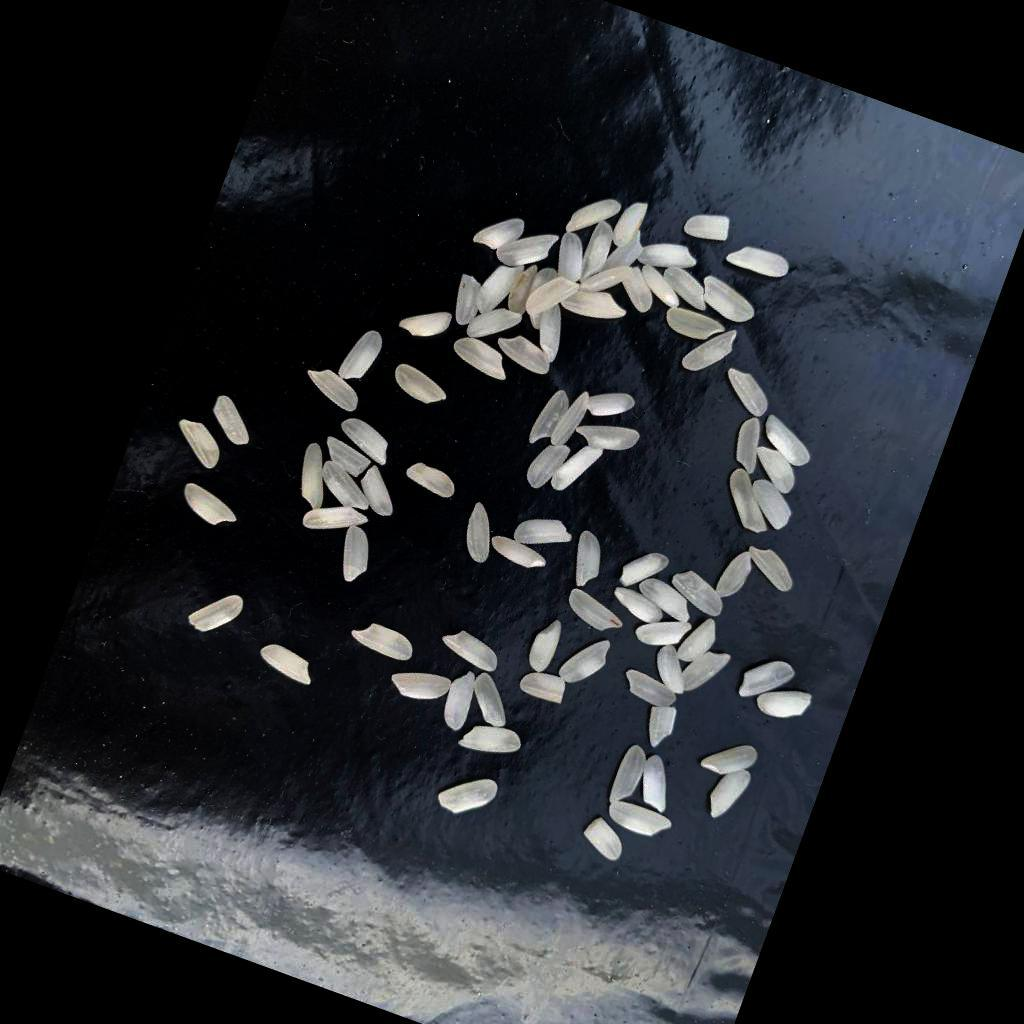rice: (715, 467, 784, 537), (434, 764, 500, 825), (494, 220, 561, 280), (548, 437, 607, 504), (681, 318, 739, 383), (288, 443, 341, 513), (332, 414, 399, 469), (313, 461, 380, 516), (558, 281, 630, 332), (185, 583, 246, 643), (176, 482, 245, 535), (166, 415, 230, 472), (557, 629, 614, 693), (473, 256, 526, 324), (694, 275, 762, 328), (737, 652, 797, 712), (302, 496, 371, 548), (756, 416, 820, 472), (299, 364, 367, 416), (572, 412, 641, 463), (562, 588, 630, 639), (666, 567, 732, 619), (457, 716, 524, 767), (348, 618, 419, 666), (448, 334, 516, 384), (438, 625, 506, 675), (463, 671, 520, 730), (512, 509, 576, 561), (389, 362, 454, 413), (523, 271, 580, 329), (565, 190, 622, 248), (330, 525, 381, 589), (336, 325, 387, 389), (634, 576, 699, 626), (387, 662, 452, 712), (741, 478, 799, 534), (636, 233, 702, 282), (716, 367, 777, 420), (605, 798, 675, 844), (203, 394, 260, 450), (464, 299, 523, 353), (678, 644, 732, 703), (492, 331, 558, 379), (740, 544, 801, 595), (704, 763, 753, 826), (527, 385, 573, 452), (437, 668, 483, 735), (634, 608, 694, 659), (699, 735, 759, 786), (631, 754, 681, 814), (617, 545, 671, 600), (353, 465, 406, 521), (746, 446, 803, 498), (458, 503, 505, 566), (528, 302, 574, 366), (256, 642, 320, 688), (549, 388, 593, 454), (397, 300, 455, 350), (576, 221, 618, 290), (726, 415, 772, 478), (608, 744, 651, 811), (600, 225, 648, 285), (661, 305, 726, 349), (565, 530, 611, 592), (726, 240, 792, 283), (657, 266, 716, 314), (524, 437, 572, 496), (754, 680, 813, 728), (579, 256, 634, 307), (472, 207, 526, 258), (647, 643, 698, 697), (618, 668, 680, 712), (675, 613, 722, 670), (486, 534, 550, 575), (614, 264, 663, 317), (608, 585, 668, 628), (402, 459, 461, 502), (714, 546, 757, 605), (317, 437, 374, 481), (525, 616, 566, 676), (579, 815, 630, 863), (634, 266, 687, 311), (549, 232, 593, 286), (503, 262, 542, 322), (446, 275, 488, 330), (585, 385, 637, 429), (610, 196, 650, 252), (682, 206, 733, 248), (639, 702, 680, 753), (518, 667, 570, 707)
